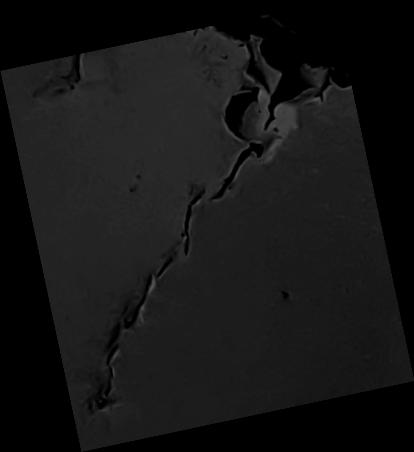crack: (0, 1, 414, 452)
